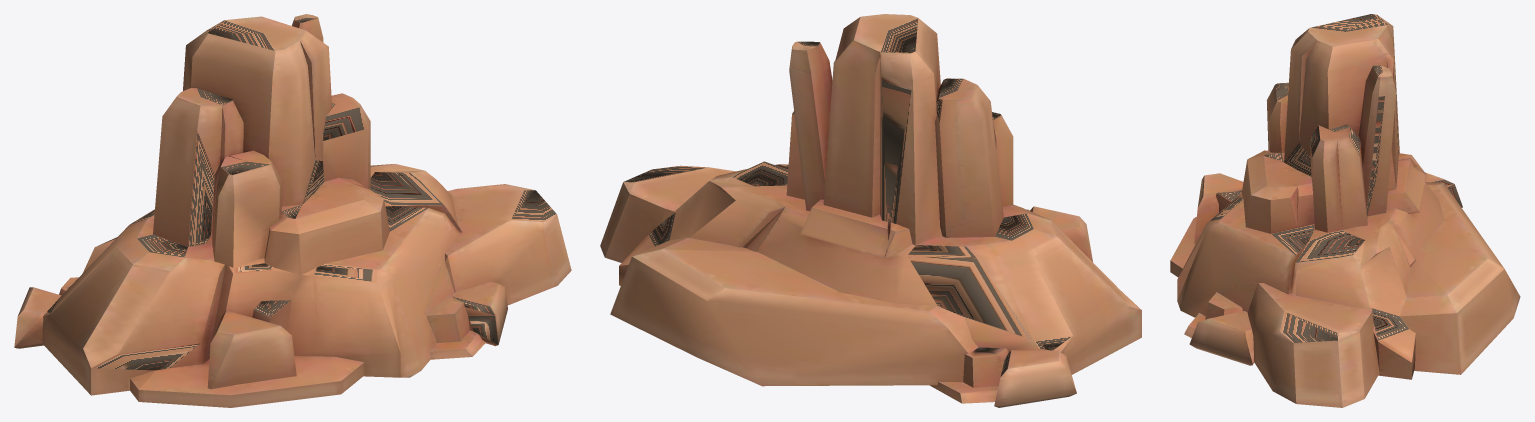
File: desert-rock-10.glb
The picture shows the model from 3 angles, left to right: view 1: azimuth 30°, elevation 25°; view 2: azimuth 150°, elevation 25°; view 3: azimuth 270°, elevation 25°; orthographic projection. The views are drawn at different scales.
Visible parts, largest first — view 1: Rock_5; view 2: Rock_5; view 3: Rock_5.
Boxes of the visible parts, left/top/right/bottom form: Rock_5: left=14, top=14, right=571, bottom=407; Rock_5: left=600, top=14, right=1141, bottom=407; Rock_5: left=1170, top=14, right=1520, bottom=407.
Size of the model in its own units: 2.81 by 1.6 by 1.91.
1 material, 1 textured.
